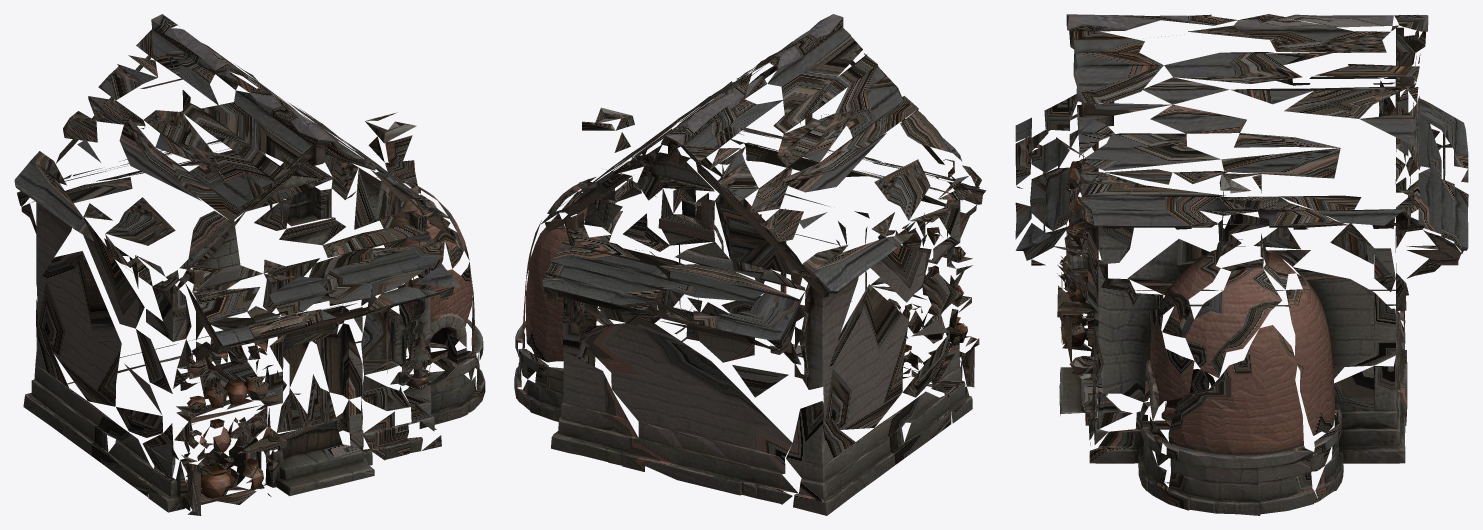
File: bld_ws_potter_a_LOD1.glb
3 renders of one model, left to right at view 1: azimuth 30°, elevation 25°; view 2: azimuth 150°, elevation 25°; view 3: azimuth 270°, elevation 25°, orthographic. The views are drawn at different scales.
Parts seen in each view (by area): view 1: geometry_0; view 2: geometry_0; view 3: geometry_0.
Boxes of the visible parts, box(x1,y1,x2,y2) form: geometry_0: box(14, 14, 485, 515); geometry_0: box(514, 14, 986, 515); geometry_0: box(1015, 14, 1468, 515).
Size of the model in its own units: 6.3 by 5.5 by 5.94.
Materials: 1 (1 with a texture image).
